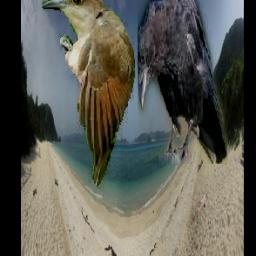Crow: (138, 0, 228, 164)
Cuckoo: (41, 0, 136, 189)
